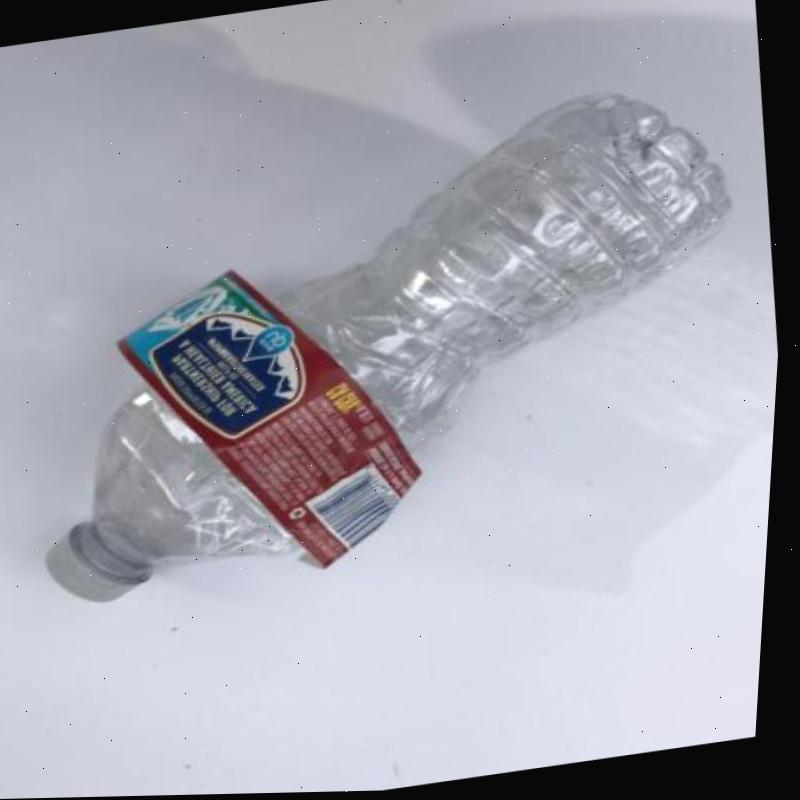botella: (5, 75, 778, 612)
